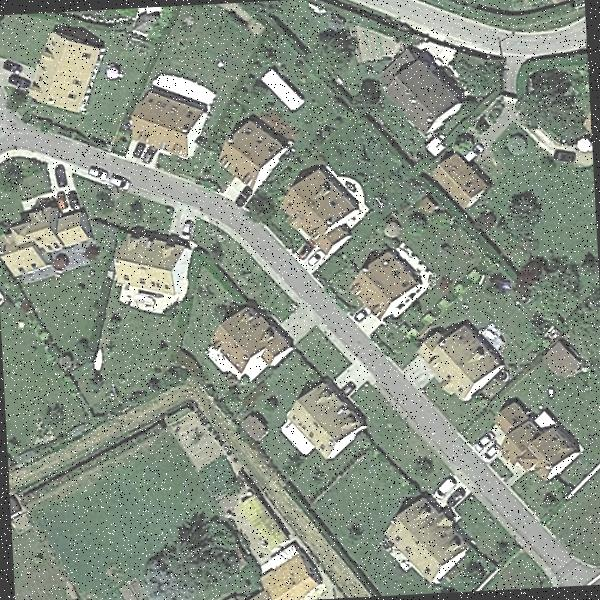Buildings: (380, 500, 470, 578), (24, 29, 105, 108), (1, 204, 88, 277), (110, 236, 192, 309), (387, 55, 467, 129), (283, 170, 357, 250), (415, 320, 491, 396), (202, 314, 290, 374), (287, 386, 360, 457), (490, 410, 564, 476), (132, 91, 212, 152), (350, 246, 416, 308), (224, 123, 282, 182), (252, 562, 319, 600), (442, 160, 484, 202)
